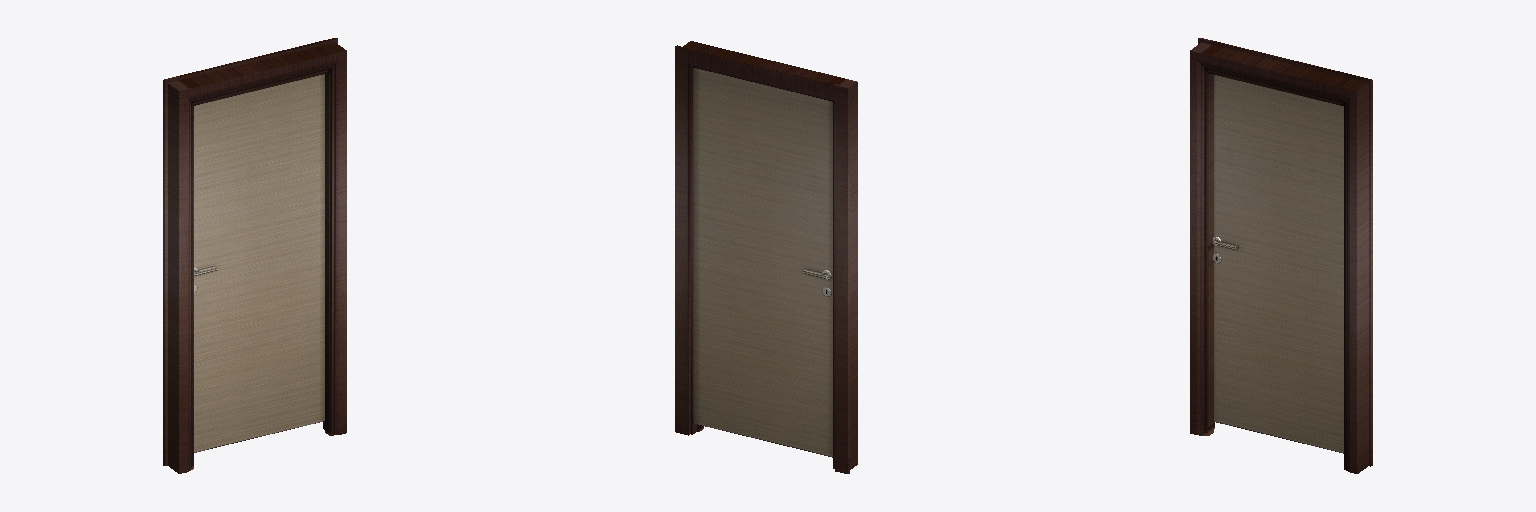
The picture shows the model from 3 angles: view 1: azimuth 30°, elevation 25°; view 2: azimuth 150°, elevation 25°; view 3: azimuth 330°, elevation 25°; orthographic projection.
Visible parts, largest first — view 1: group_1.008_ID78.001, group_2_ID87.001; view 2: group_1.004_ID46.001, group_2_ID87.001; view 3: group_1.008_ID78.001, group_2_ID87.001.
Boxes of the visible parts, box(x1,y1,x2,y2) form: group_1.008_ID78.001: box(194, 74, 324, 452); group_2_ID87.001: box(163, 38, 346, 473); group_1.004_ID46.001: box(693, 68, 832, 457); group_2_ID87.001: box(675, 41, 857, 473); group_1.008_ID78.001: box(1214, 75, 1343, 453); group_2_ID87.001: box(1190, 38, 1372, 473).
Bounding box in the file's own units: 3.28 × 7.01 × 0.4403.
Materials: 2 (2 with a texture image).